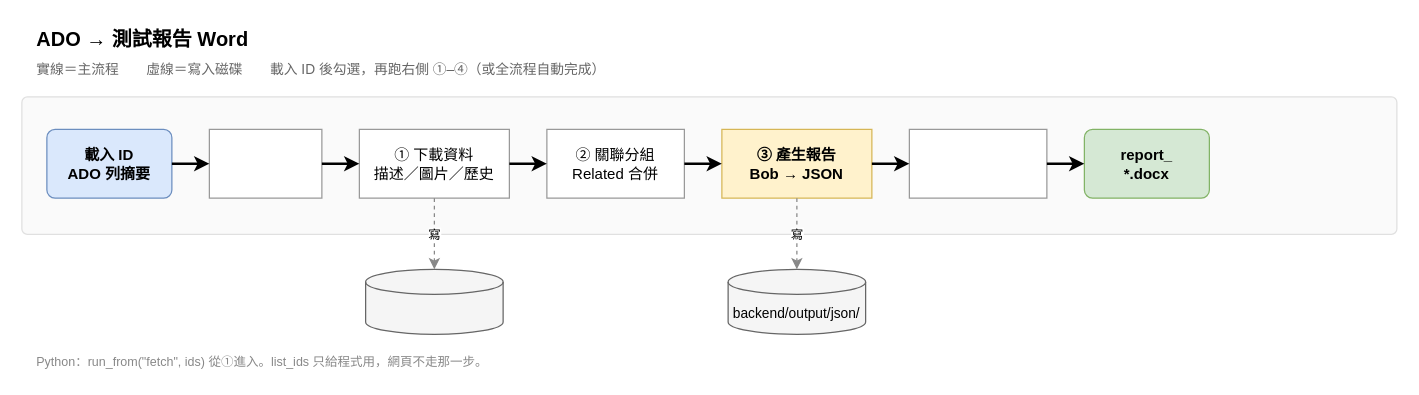
This 1419x395 diagram has some shape labels left out. Here are the shapes that lost their labels. From the top down, the box of each, then its label:
(208, 128, 322, 198): 勾選項目
(908, 128, 1047, 198): ④ 合併成Word 填範本
(364, 268, 503, 334): backend/output/ado/
